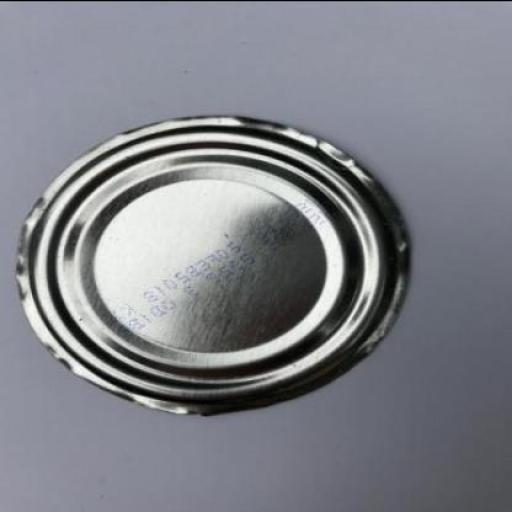metal: (18, 112, 409, 415)
